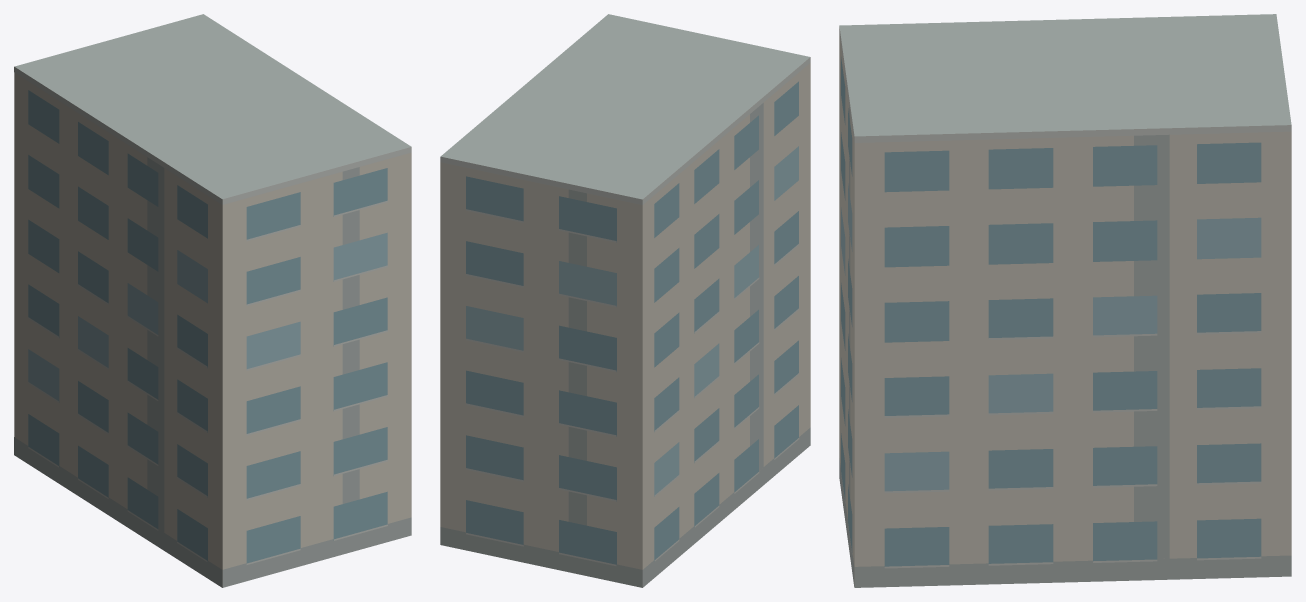
Rendered from survey-upis-32698596.glb.
3 views of the same model, side by side, from view 1: azimuth 30°, elevation 25°; view 2: azimuth 150°, elevation 25°; view 3: azimuth 270°, elevation 25° (orthographic). The views are drawn at different scales.
Parts seen in each view (by area): view 1: survey-upis-32698596.tmp; view 2: survey-upis-32698596.tmp; view 3: survey-upis-32698596.tmp.
Part boxes in pixels (left/top/right/bottom): survey-upis-32698596.tmp: left=14, top=14, right=411, bottom=587; survey-upis-32698596.tmp: left=440, top=14, right=810, bottom=587; survey-upis-32698596.tmp: left=839, top=14, right=1291, bottom=587.
Size of the model in its own units: 9.72 by 16.7 by 15.17.
